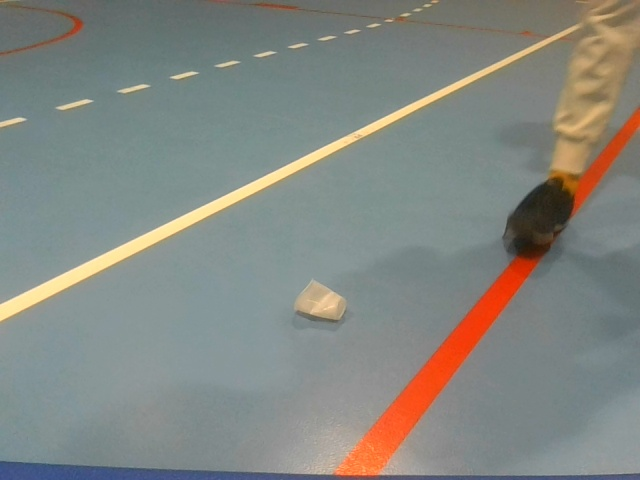plasticcup: (292, 279, 347, 324)
